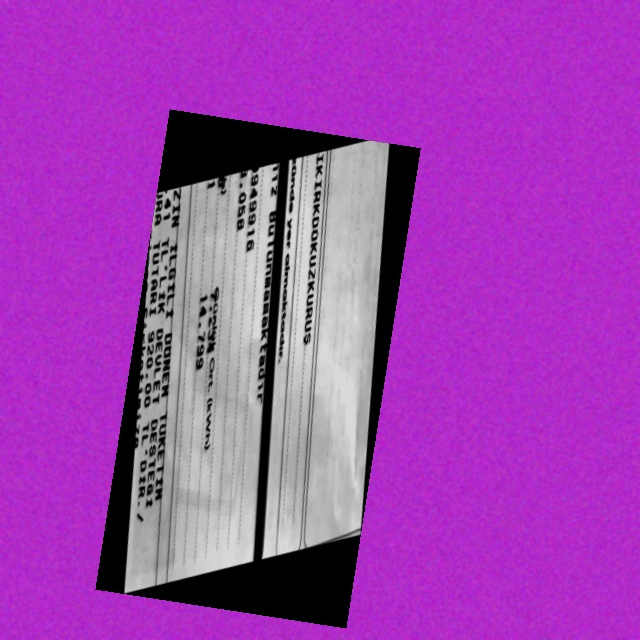electricity-bill: (95, 109, 421, 627)
